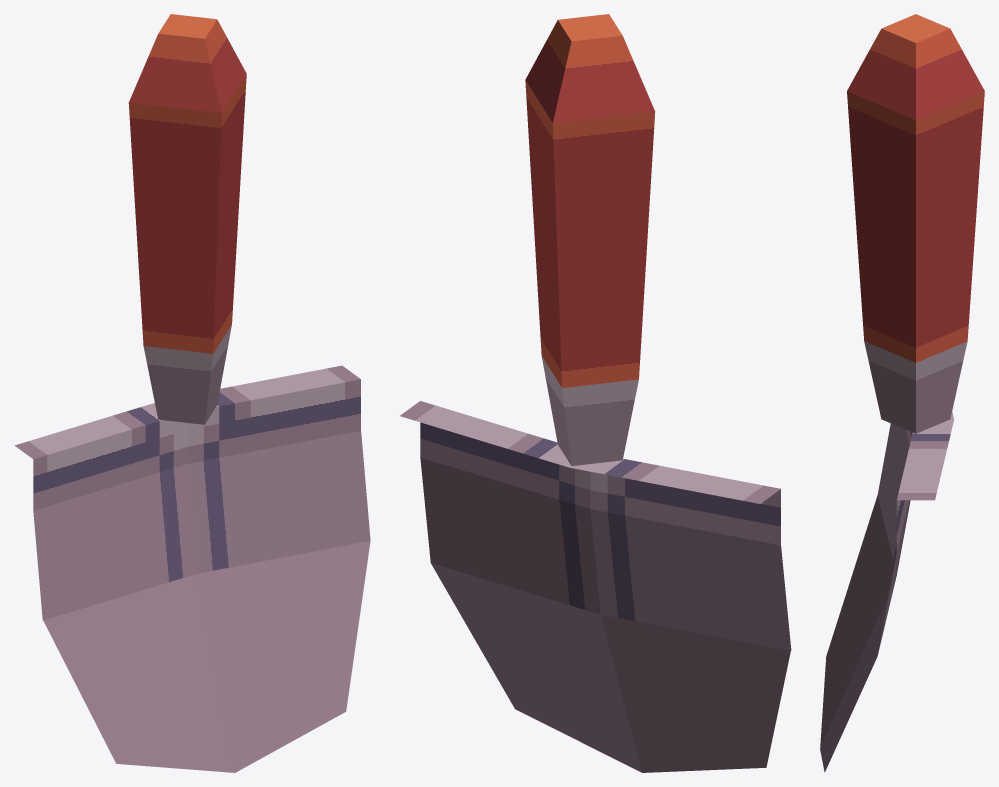
Rendered from shovel.fbx.
3 renders of one model, left to right at view 1: azimuth 30°, elevation 25°; view 2: azimuth 150°, elevation 25°; view 3: azimuth 270°, elevation 25°, orthographic. The views are drawn at different scales.
Parts seen in each view (by area): view 1: Shovel; view 2: Shovel; view 3: Shovel.
Part boxes in pixels (x1=…): Shovel: x1=14, y1=14, x2=370, y2=772; Shovel: x1=400, y1=14, x2=791, y2=772; Shovel: x1=820, y1=14, x2=984, y2=772.
Size of the model in its own units: 62.5 by 130 by 26.88.
1 material, 1 textured.
